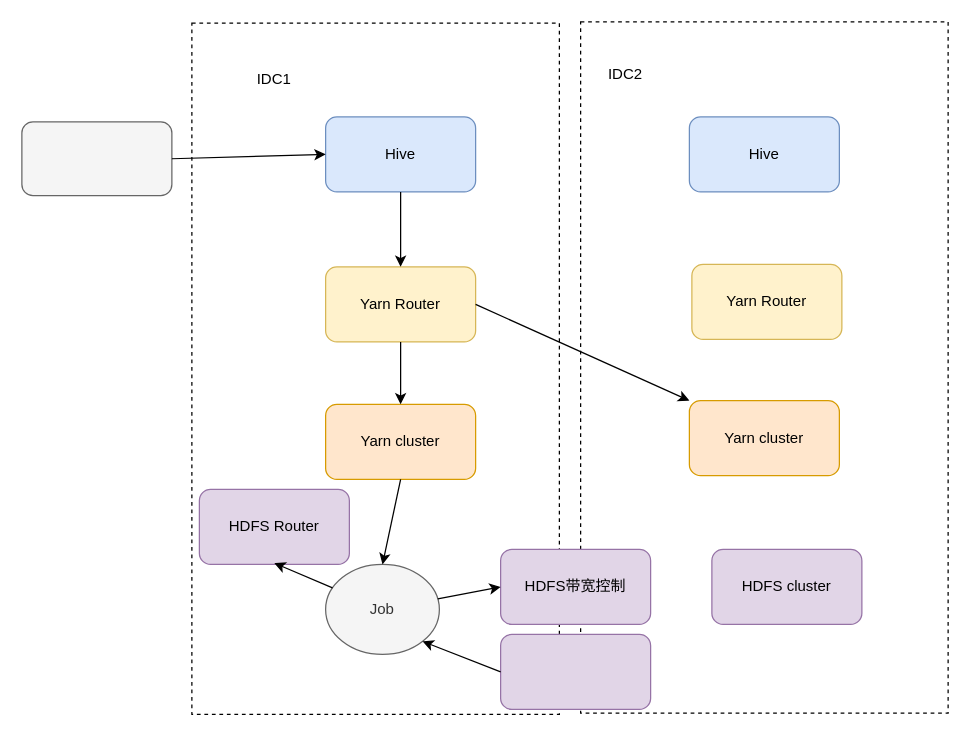
Some shapes in this 970 by 736 pixel diagram are drawn without their labels. Here are the shapes that lost their labels. From the top down, the centre of each, then its label:
pixel 96 158: IDP
pixel 575 671: HDFS cache
